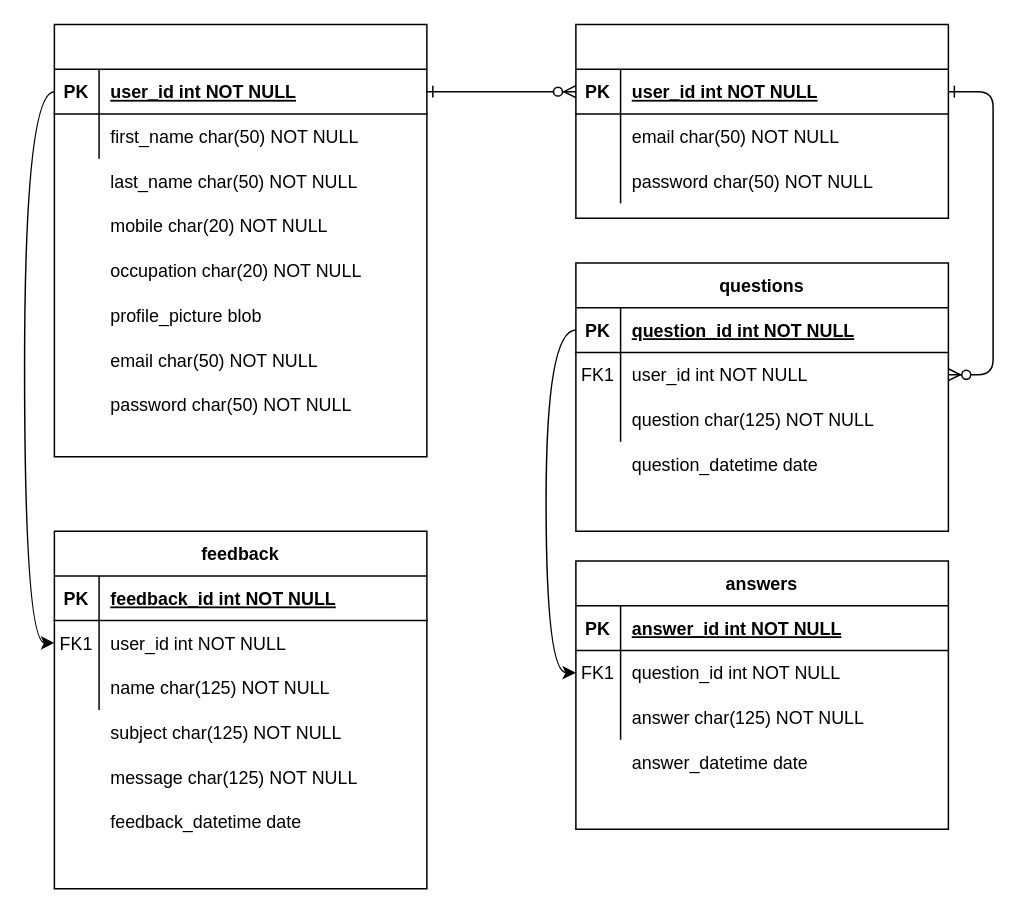
The diagram is 1018 pixels wide and 913 high, and some of its shapes have lost their labels. The box of each missing label's shape, as (x1, y1, x2, y2) in pixels:
login_user: (574, 23, 948, 218)
register_user: (53, 23, 427, 457)
